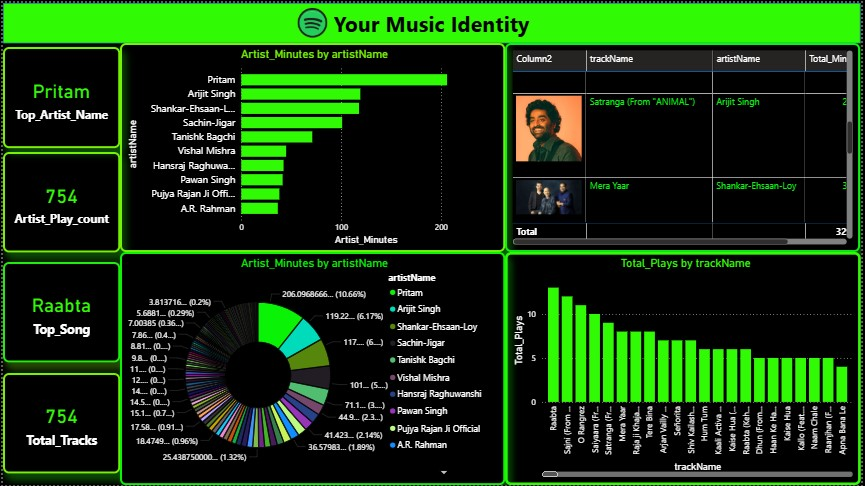

What the dashboard file says about the page in this screenshot:
{"tool":"powerbi","page":{"name":"Page 3","canvas":[1280,720],"ordinal":2},"visuals":[{"type":"shape","box":[0,0,1279.8,60.2],"z":0},{"type":"image","box":[421.7,0,79.3,58.8],"z":1000},{"type":"card","fields":{"Values":["SearchQueries.Top_Artist_Name"]},"box":[0,58.8,174.9,149.9],"z":2000},{"type":"card","fields":{"Values":["SearchQueries.Top_Song"]},"box":[0,395.3,174.9,149.9],"z":3000},{"type":"card","fields":{"Values":["StreamingHistory_music_0.Total_Tracks"]},"box":[0,570.1,174.9,149.9],"z":4000},{"type":"card","fields":{"Values":["SearchQueries.Artist_Play_count"]},"box":[0,221.9,174.9,149.9],"z":5000},{"type":"barChart","fields":{"Category":["StreamingHistory_music_0.artistName"],"Y":["SearchQueries.Artist_Minutes"]},"box":[174.6,59.7,574.6,311.9],"z":6000},{"type":"tableEx","fields":{"Values":["singer_images.Column2","StreamingHistory_music_0.trackName","StreamingHistory_music_0.artistName","SearchQueries.Total_Minutes","SearchQueries.Total_Plays"]},"box":[749.3,59.7,529.9,311.9],"z":7000},{"type":"clusteredColumnChart","fields":{"Category":["StreamingHistory_music_0.trackName"],"Y":["SearchQueries.Total_Plays"]},"box":[749.3,371.6,531.3,347.8],"z":8000},{"type":"donutChart","fields":{"Category":["StreamingHistory_music_0.artistName"],"Y":["SearchQueries.Artist_Minutes"]},"box":[174.6,371.6,574.6,347.8],"z":9000}]}

Visuals, with their boxes in screenshot pixels (x1, y1, x2, y2), scaled from the page's 1280x720 canvas onto the 865x486 screenshot:
shape: bbox=(0, 0, 864, 41)
image: bbox=(285, 0, 339, 40)
card - SearchQueries.Top_Artist_Name: bbox=(0, 40, 118, 141)
card - SearchQueries.Top_Song: bbox=(0, 267, 118, 368)
card - StreamingHistory_music_0.Total_Tracks: bbox=(0, 385, 118, 485)
card - SearchQueries.Artist_Play_count: bbox=(0, 150, 118, 251)
barChart - StreamingHistory_music_0.artistName x SearchQueries.Artist_Minutes: bbox=(118, 40, 506, 251)
tableEx - singer_images.Column2 x StreamingHistory_music_0.trackName: bbox=(506, 40, 864, 251)
clusteredColumnChart - StreamingHistory_music_0.trackName x SearchQueries.Total_Plays: bbox=(506, 251, 864, 485)
donutChart - StreamingHistory_music_0.artistName x SearchQueries.Artist_Minutes: bbox=(118, 251, 506, 485)
